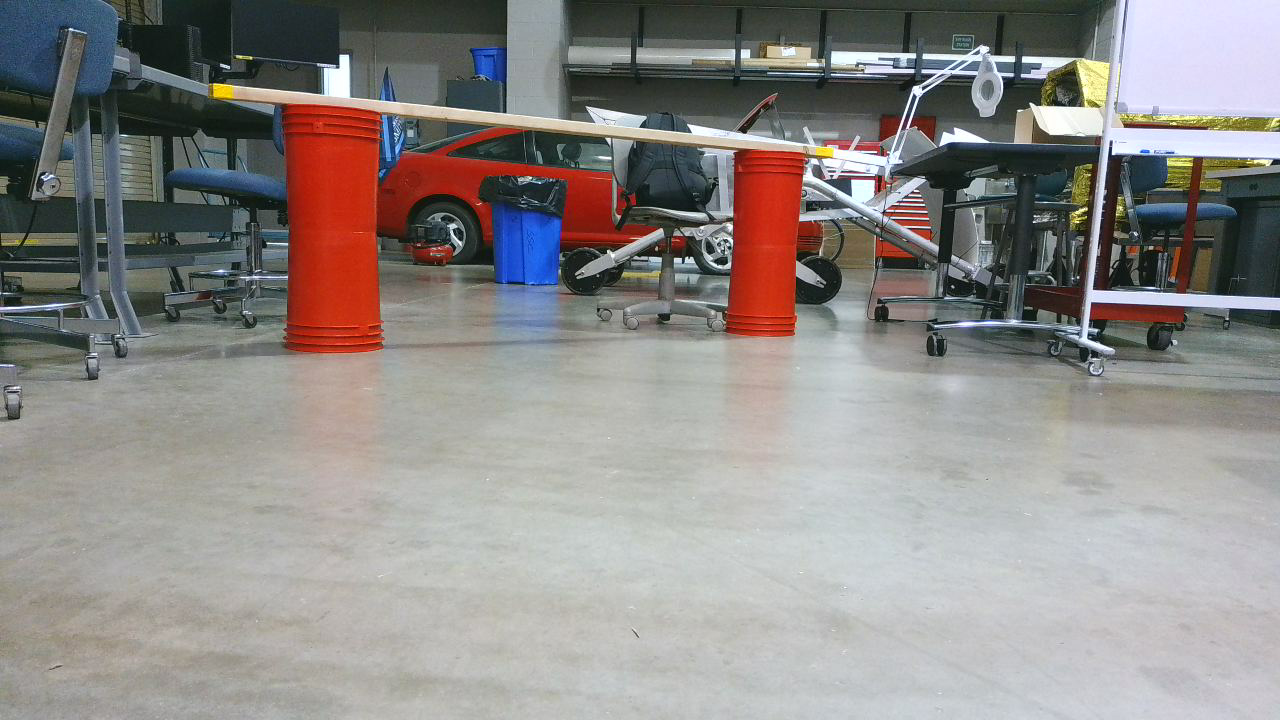red_bucket_arch: (285, 93, 814, 358)
